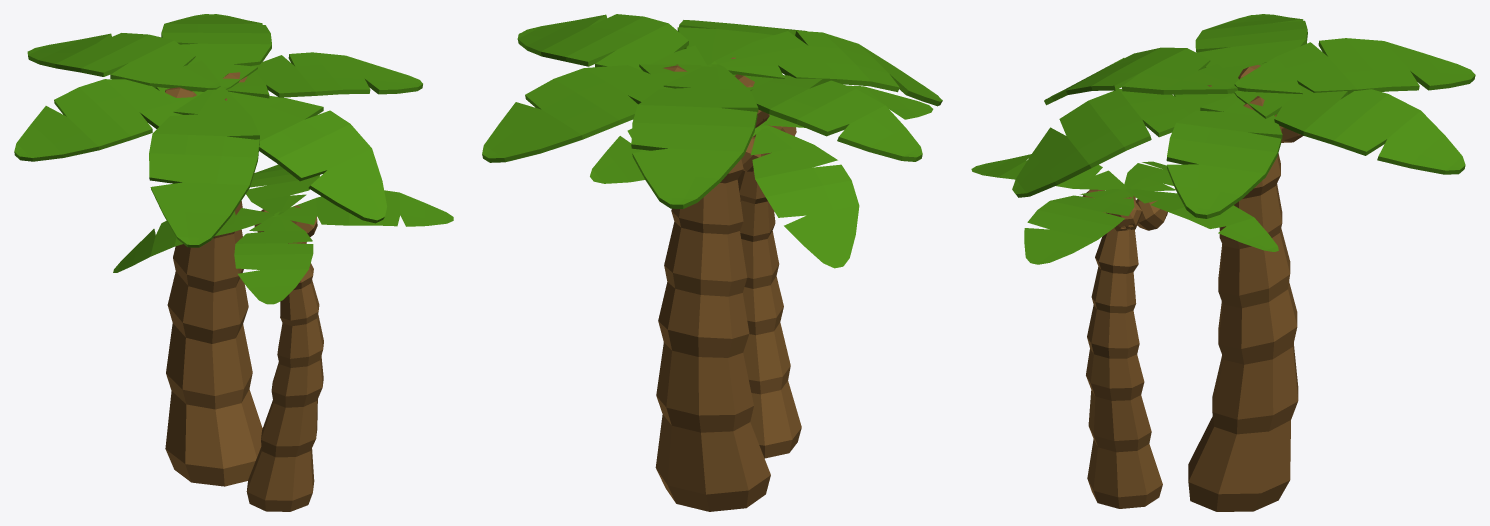
The model's file is SM_GroupedPalm.fbx.
3 renders of one model, left to right at view 1: azimuth 30°, elevation 25°; view 2: azimuth 150°, elevation 25°; view 3: azimuth 270°, elevation 25°, orthographic. The views are drawn at different scales.
Visible parts, largest first — view 1: SM_GroupedPalmTree1_Tree1_Leaf6, SM_GroupedPalmTree1_Tree2_Body; view 2: SM_GroupedPalmTree1_Tree1_Leaf6, SM_GroupedPalmTree1_Tree2_Body; view 3: SM_GroupedPalmTree1_Tree1_Leaf6, SM_GroupedPalmTree1_Tree2_Body.
Part boxes in pixels (x1,y1,x2,y2): SM_GroupedPalmTree1_Tree1_Leaf6: (14, 14, 422, 486); SM_GroupedPalmTree1_Tree2_Body: (113, 164, 453, 511); SM_GroupedPalmTree1_Tree1_Leaf6: (482, 14, 942, 511); SM_GroupedPalmTree1_Tree2_Body: (590, 85, 933, 458); SM_GroupedPalmTree1_Tree1_Leaf6: (1012, 14, 1475, 511); SM_GroupedPalmTree1_Tree2_Body: (971, 154, 1278, 508).
Bounding box in the file's own units: 930 × 901 × 997.
